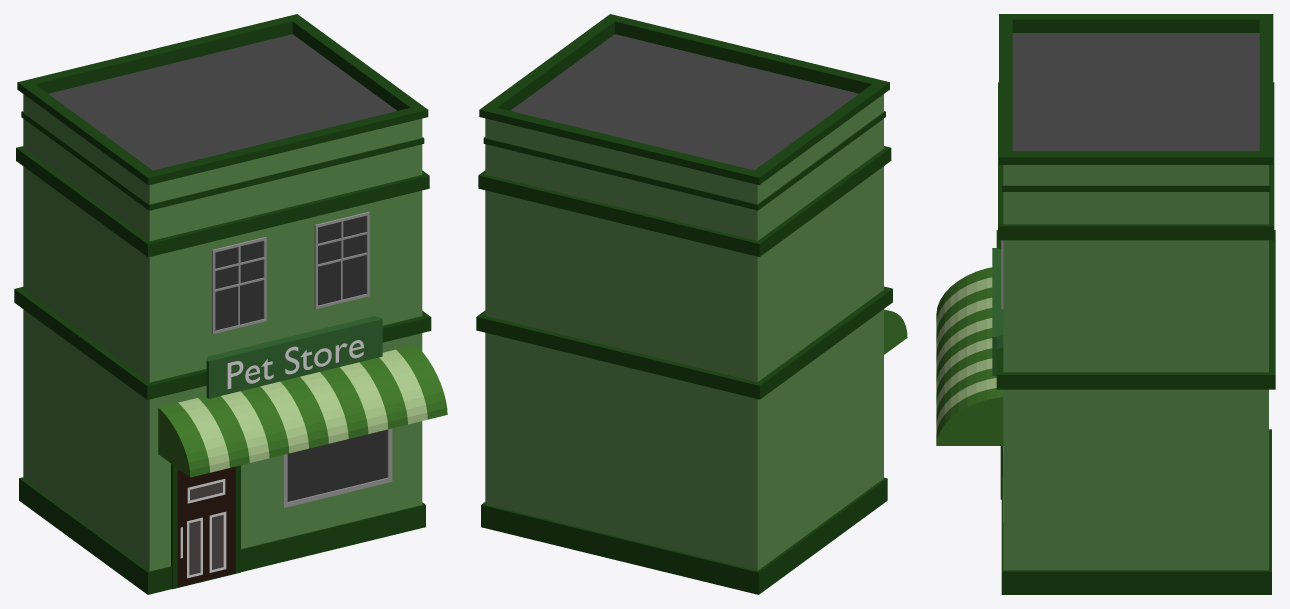
Rendered from Building_PetStore.fbx.
The picture shows the model from 3 angles, left to right: view 1: azimuth 30°, elevation 25°; view 2: azimuth 150°, elevation 25°; view 3: azimuth 270°, elevation 25°; orthographic projection. The views are drawn at different scales.
Visible parts, largest first — view 1: Cube, Plane, Text; view 2: Cube; view 3: Cube.
Boxes of the visible parts, x1,y1,x2,y2 form: Cube: [14, 14, 447, 594]; Plane: [171, 464, 240, 589]; Text: [227, 340, 363, 389]; Cube: [476, 14, 907, 594]; Cube: [936, 14, 1275, 594].
Bounding box in the file's own units: 710 × 999 × 701.
